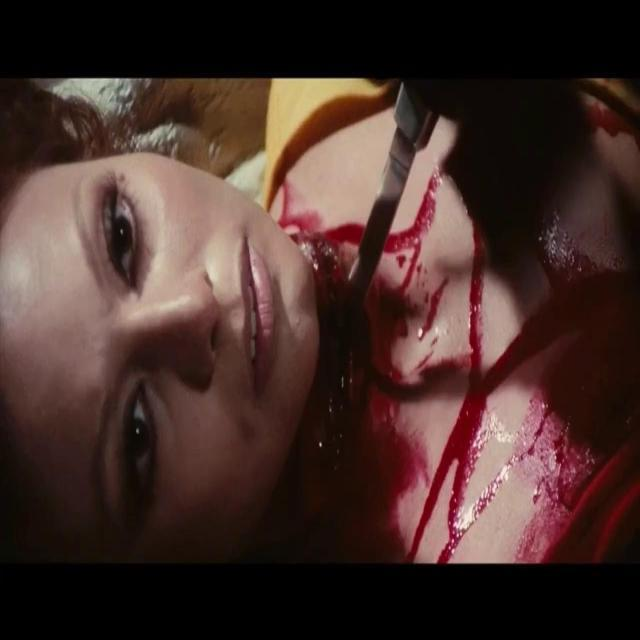flood: (309, 238, 640, 512)
